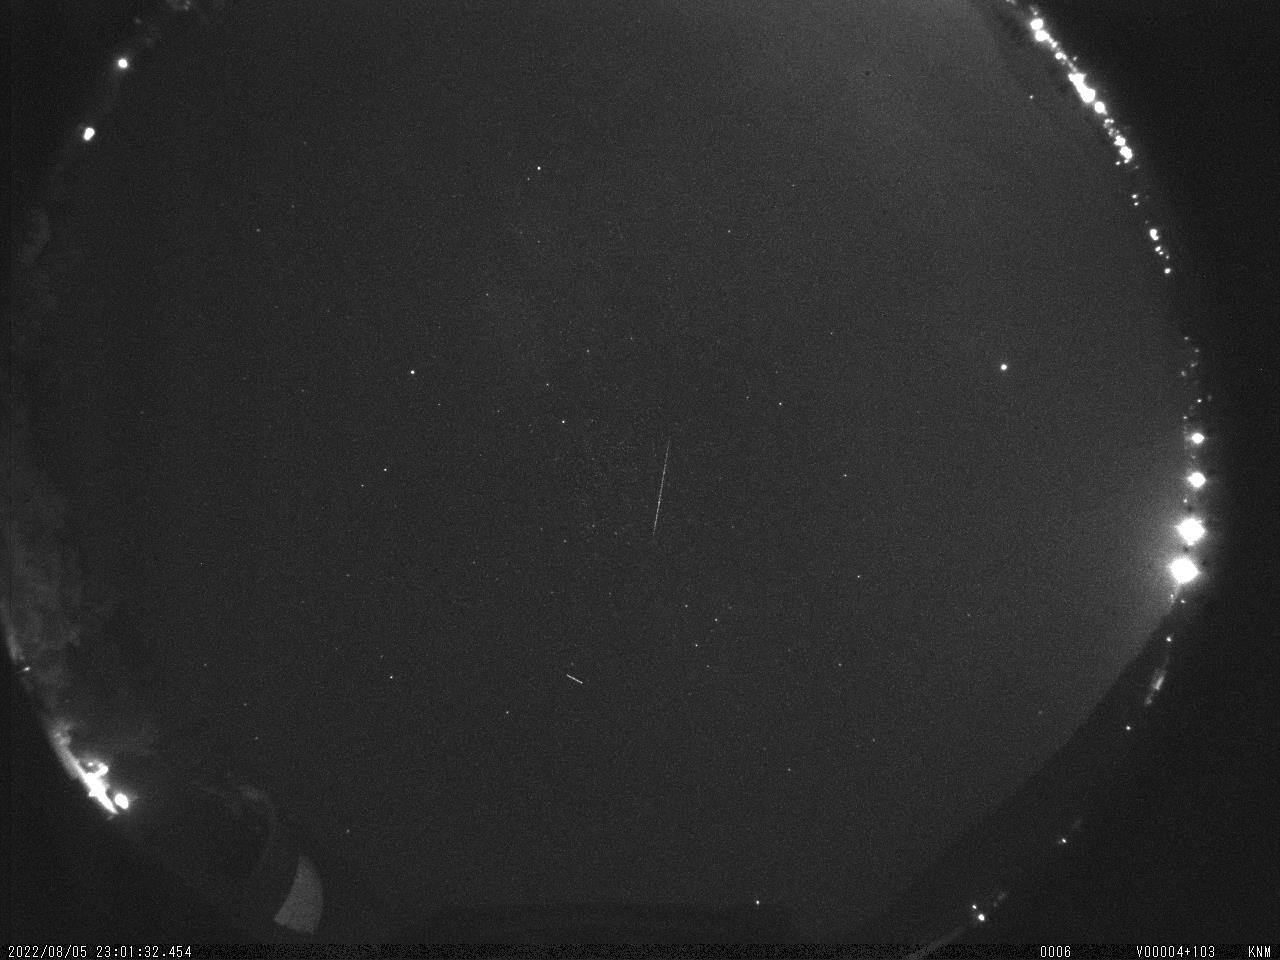Meteor: (640, 423, 677, 548)
